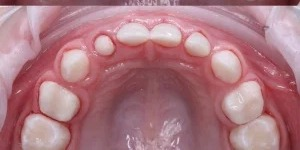UL1BC_healthy: (223, 82, 263, 124)
UL2BC_healthy: (230, 116, 280, 150)
ULCI_healthy: (150, 24, 181, 47)
ULC_healthy: (212, 51, 241, 83)
ULLI_healthy: (185, 32, 211, 56)
UR1BC_healthy: (39, 81, 78, 122)
UR2BC_healthy: (22, 117, 69, 150)
URCI_healthy: (117, 23, 150, 45)
URC_healthy: (61, 49, 88, 82)
URLI_healthy: (94, 35, 114, 56)
